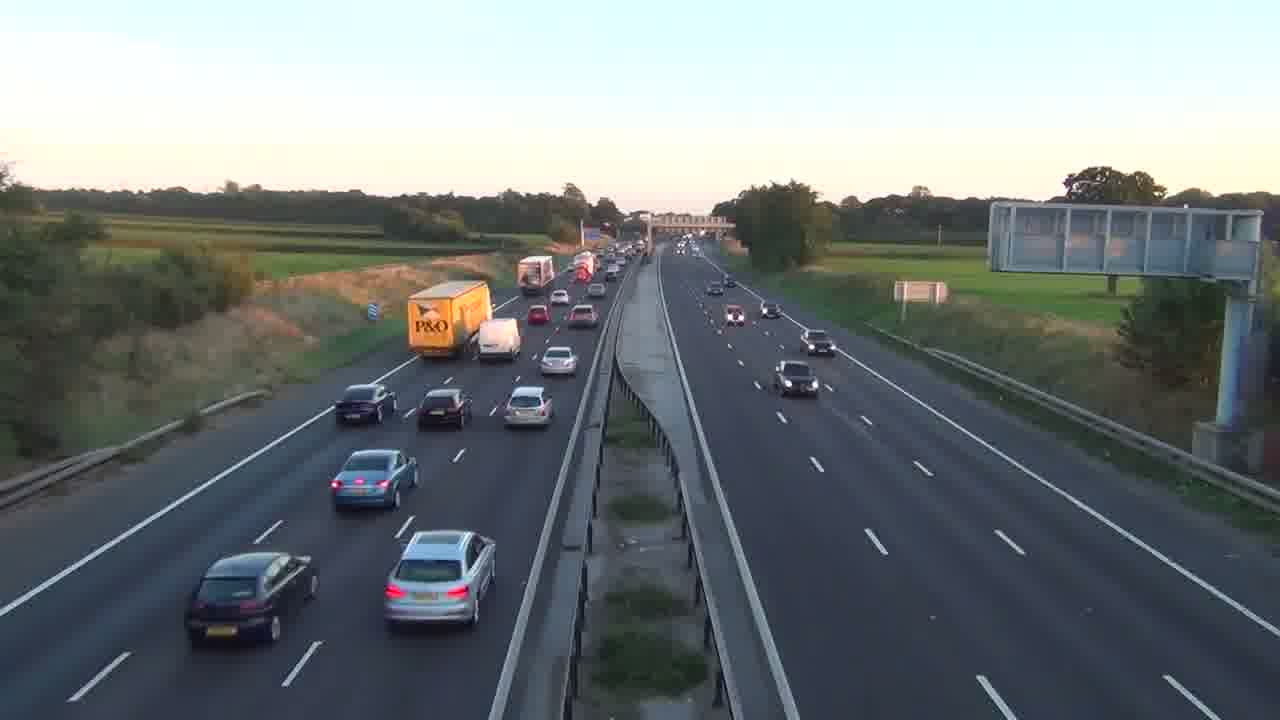car: (184, 550, 320, 648), (382, 528, 498, 632), (329, 447, 420, 511), (336, 382, 395, 425), (503, 385, 554, 430), (416, 387, 470, 429), (772, 360, 819, 398), (538, 345, 578, 377), (564, 303, 598, 329), (528, 305, 550, 325)
truck: (407, 278, 491, 358), (476, 317, 522, 362)
